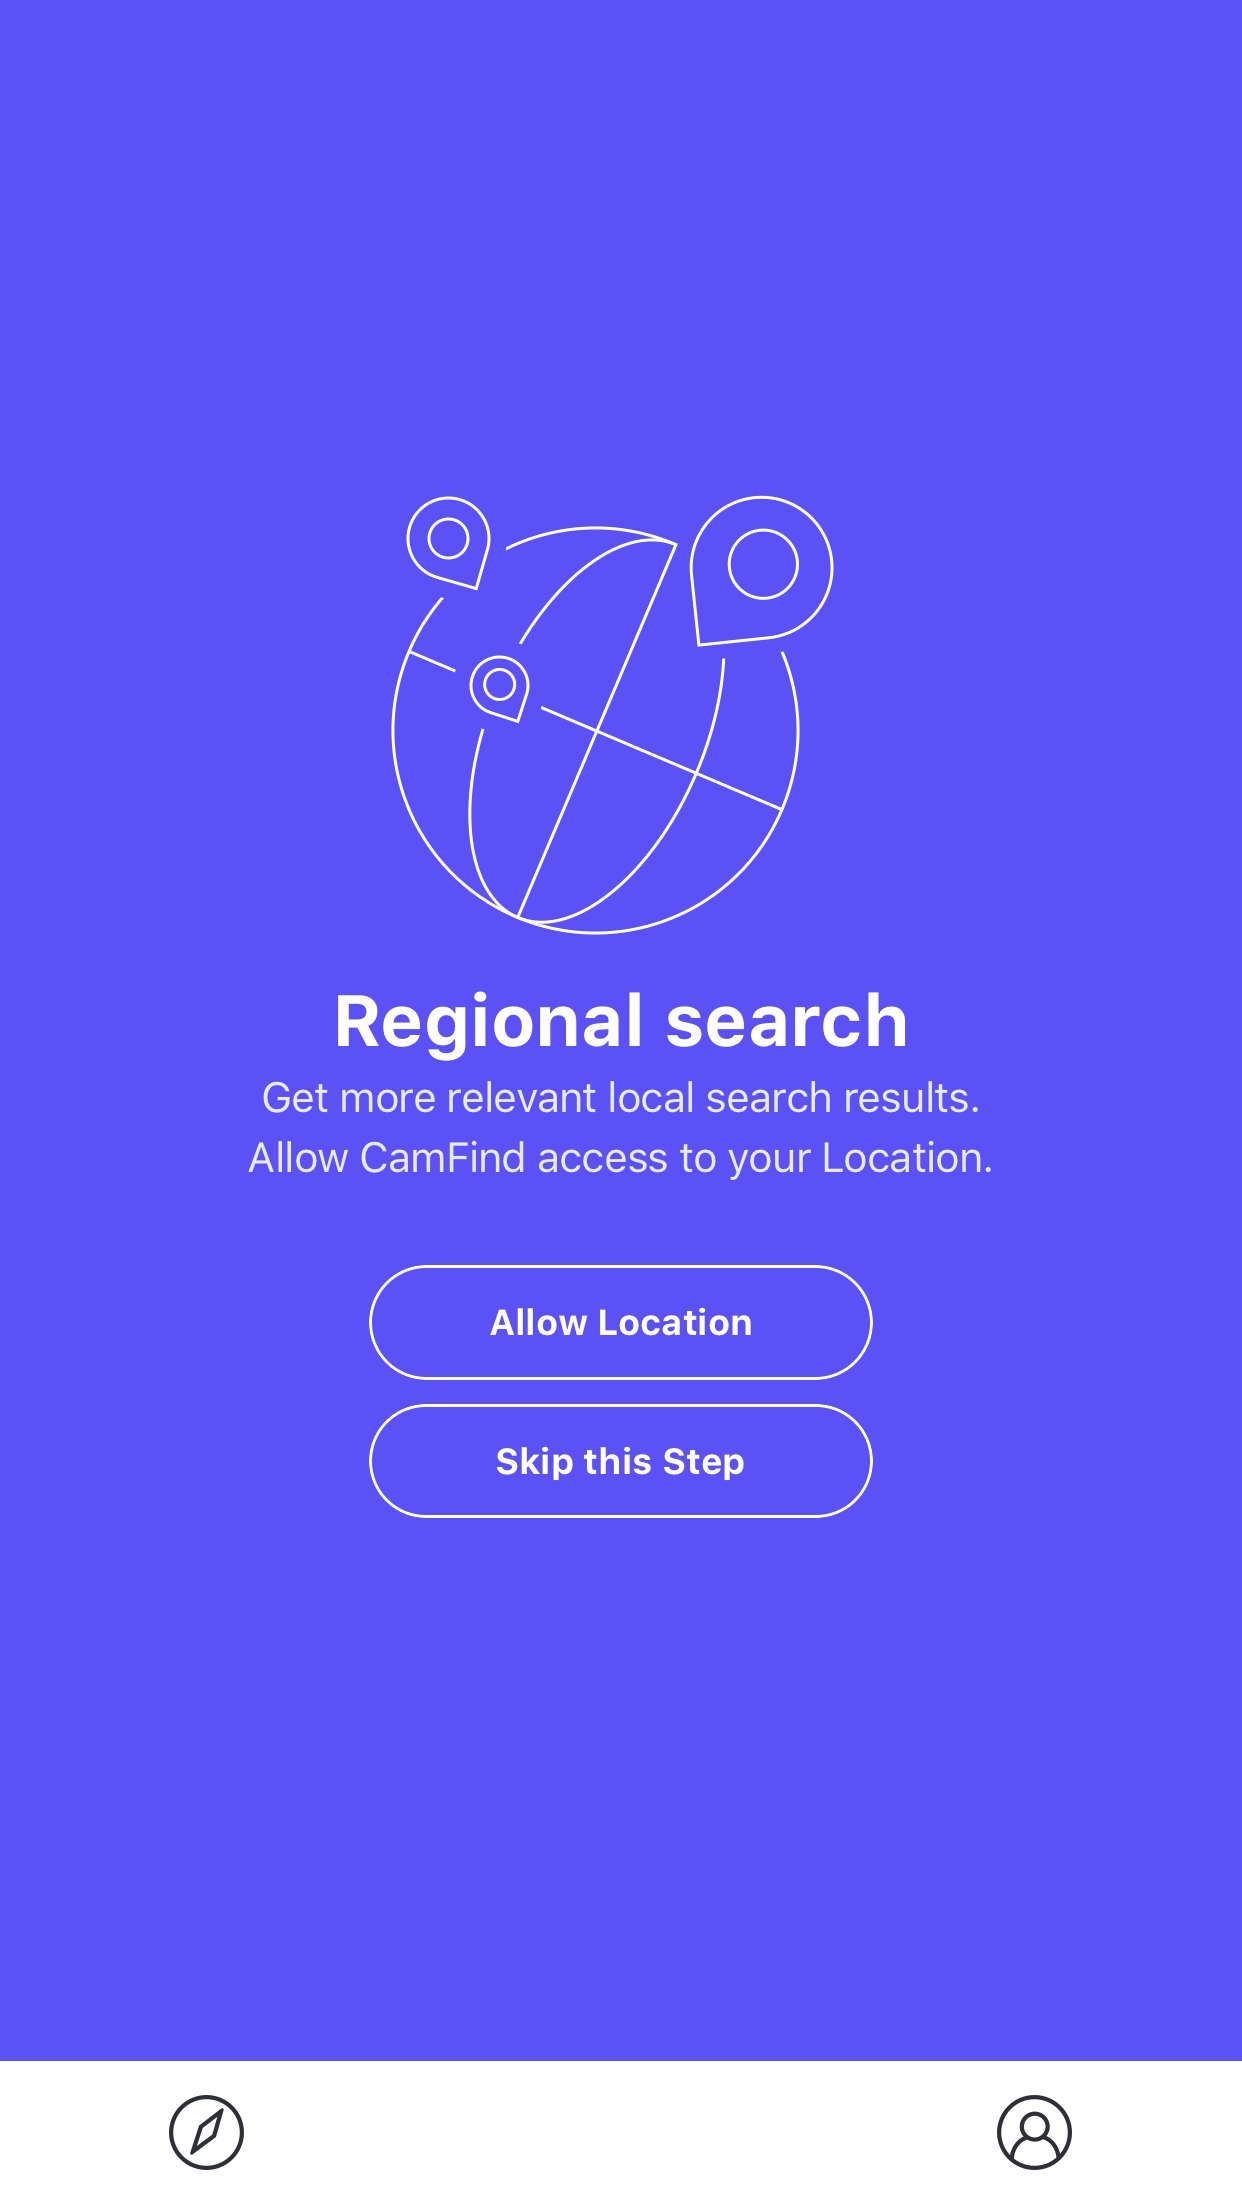Icon: (168, 2094, 246, 2170), (996, 2094, 1072, 2170)
Image: (391, 494, 836, 936)
Text: (249, 1081, 990, 1181), (337, 990, 905, 1062)
TextButton: (369, 1265, 873, 1380), (369, 1403, 873, 1518)
